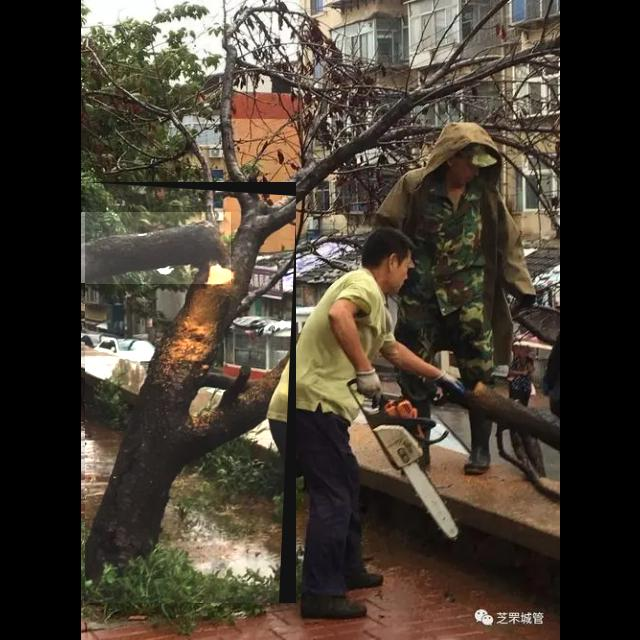Fallen Tree: (85, 182, 297, 604), (81, 212, 231, 284)
